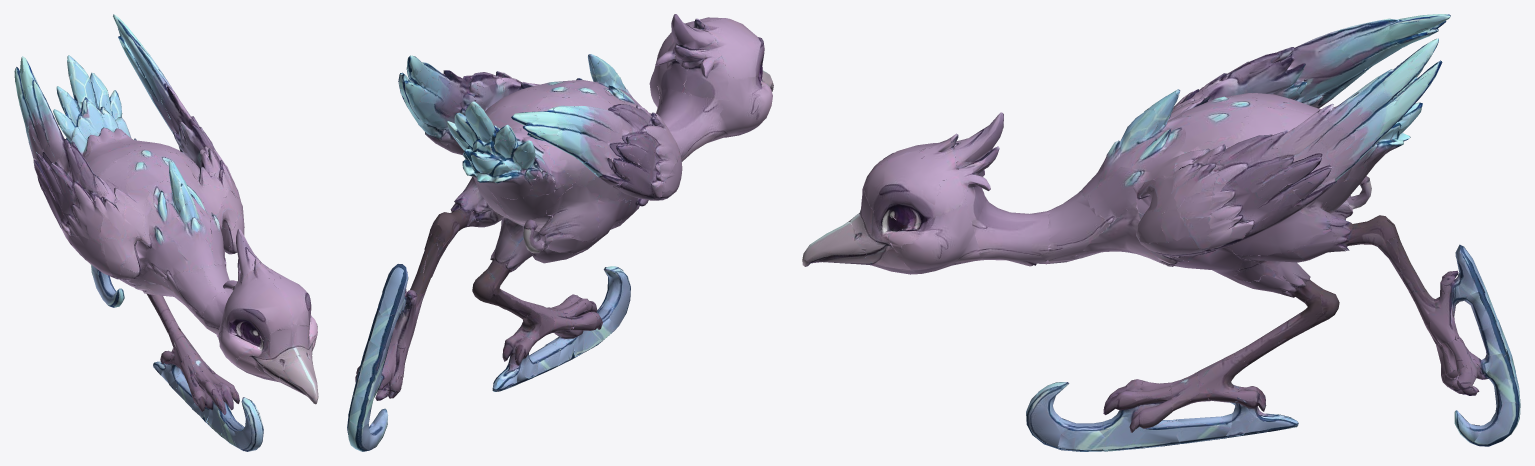
3 renders of one model, left to right at view 1: azimuth 30°, elevation 25°; view 2: azimuth 150°, elevation 25°; view 3: azimuth 270°, elevation 25°, orthographic. The views are drawn at different scales.
Visible parts, largest first — view 1: Mesh_0; view 2: Mesh_0; view 3: Mesh_0.
Boxes of the visible parts, bbox=[...] form: Mesh_0: bbox=[14, 14, 318, 451]; Mesh_0: bbox=[347, 14, 773, 451]; Mesh_0: bbox=[802, 14, 1520, 451].
Bounding box in the file's own units: 0.6377 × 1.23 × 1.9.
1 material, 1 textured.
